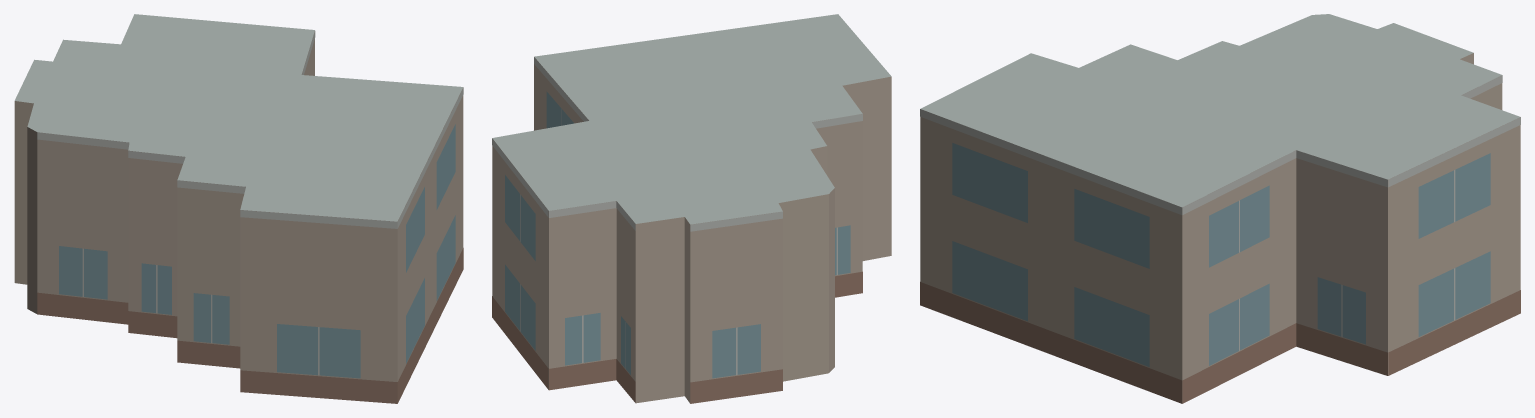
Rendered from survey-upis-32717670.glb.
3 views of the same model, side by side, from view 1: azimuth 30°, elevation 25°; view 2: azimuth 150°, elevation 25°; view 3: azimuth 270°, elevation 25° (orthographic). The views are drawn at different scales.
Visible parts, largest first — view 1: survey-upis-32717670.tmp; view 2: survey-upis-32717670.tmp; view 3: survey-upis-32717670.tmp.
Boxes of the visible parts, x1,y1,x2,y2 form: survey-upis-32717670.tmp: [14, 14, 463, 403]; survey-upis-32717670.tmp: [492, 14, 891, 403]; survey-upis-32717670.tmp: [920, 14, 1520, 403].
Bounding box in the file's own units: 12.89 × 6.1 × 16.91.
